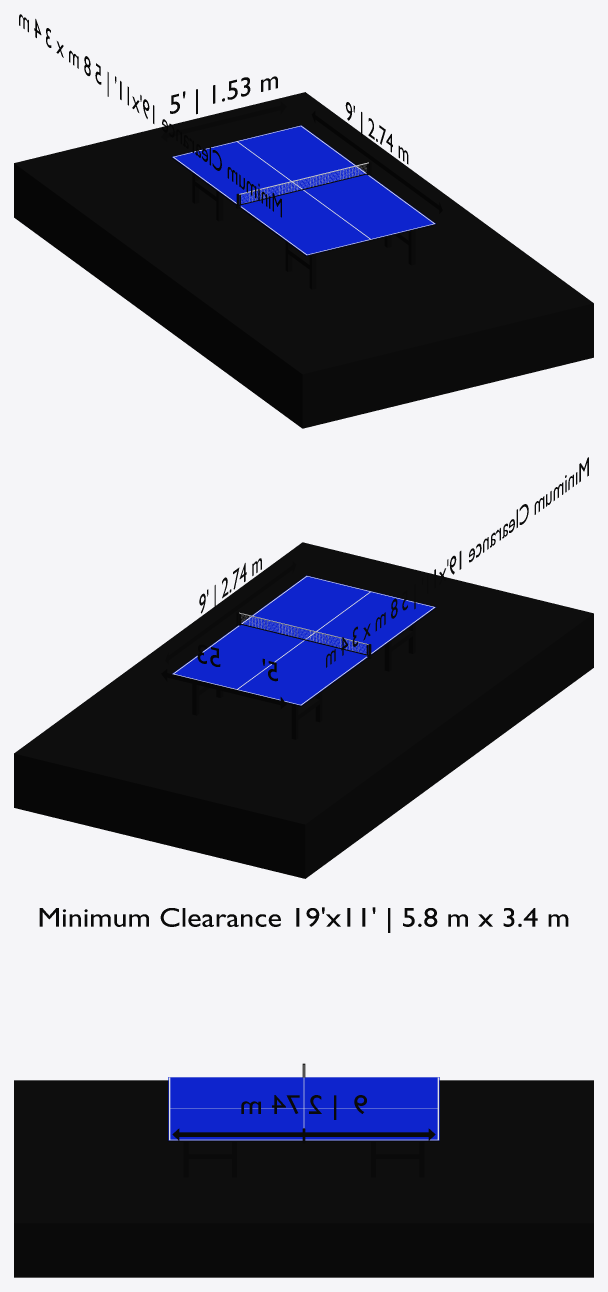
The model's file is table-tennis.fbx.
The picture shows the model from 3 angles, top to bottom: view 1: azimuth 30°, elevation 25°; view 2: azimuth 150°, elevation 25°; view 3: azimuth 270°, elevation 25°; orthographic projection.
Visible parts, largest first — view 1: floor, table, Text.002, net, Plane.008, Plane.001, Text.001; view 2: floor, table, Text.002, net, Plane.008, Plane.001; view 3: floor, table, Text.002, Plane.008, Text.008.
Boxes of the visible parts, bbox=[...] form: floor: bbox=[14, 92, 593, 428]; table: bbox=[171, 125, 436, 289]; Text.002: bbox=[19, 14, 281, 217]; net: bbox=[236, 161, 371, 208]; Plane.008: bbox=[311, 111, 442, 213]; Plane.001: bbox=[161, 102, 286, 141]; Text.001: bbox=[170, 76, 277, 114]; floor: bbox=[14, 542, 593, 878]; table: bbox=[172, 575, 436, 739]; Text.002: bbox=[326, 457, 588, 667]; net: bbox=[236, 611, 371, 658]; Plane.008: bbox=[165, 561, 295, 663]; Plane.001: bbox=[161, 669, 286, 708]; floor: bbox=[14, 1080, 593, 1277]; table: bbox=[168, 1077, 439, 1177]; Text.002: bbox=[39, 907, 568, 932]; Plane.008: bbox=[172, 1128, 435, 1140]; Text.008: bbox=[241, 1095, 366, 1119].
Bounding box in the file's own units: 1152 × 820 × 1925.
